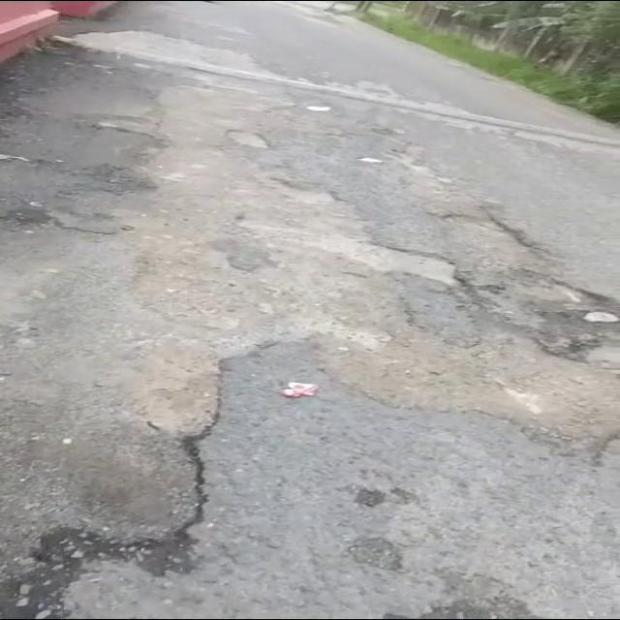lubang: (239, 110, 600, 439), (0, 147, 217, 616), (447, 215, 619, 374), (385, 574, 535, 617), (347, 537, 402, 571), (354, 487, 416, 508)
